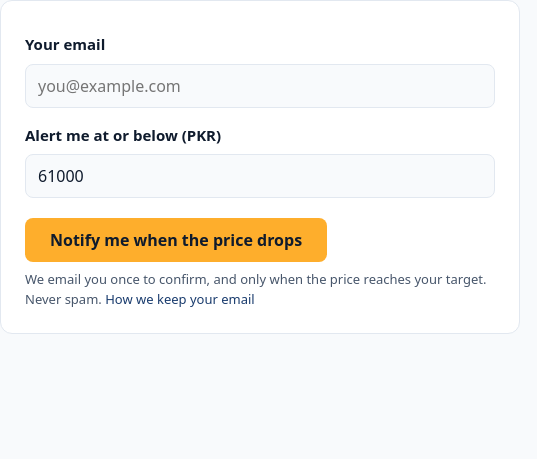
Test: AlertForm › puts the server's field errors next to their fields
Type "a@b.co" into the field labelled "Your email" at point(260, 86), box [25,64,495,108]
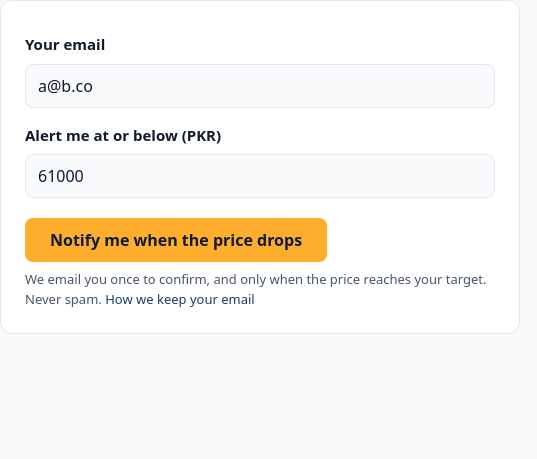
Replace the text in the number field labelled "Alert me at or below (PKR)" with "60000" at point(260, 176), box [25,154,495,198]
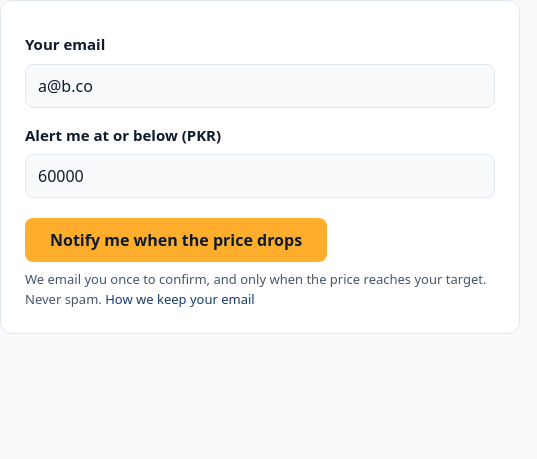
Click the button "Notify me when the price drops" at point(176, 240), box [25,218,327,262]
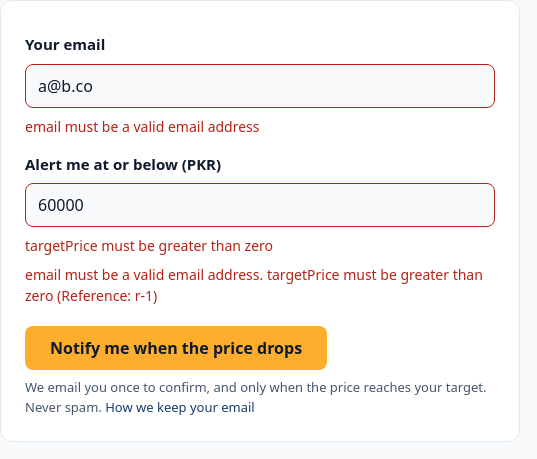
Expected: the text "email must be a valid email address" is shown, [25,116,260,136]
Expected: the text "targetPrice must be greater than zero" is shown, [25,236,273,255]
Expected: the message shows "Reference: r-1", [54,286,157,305]
